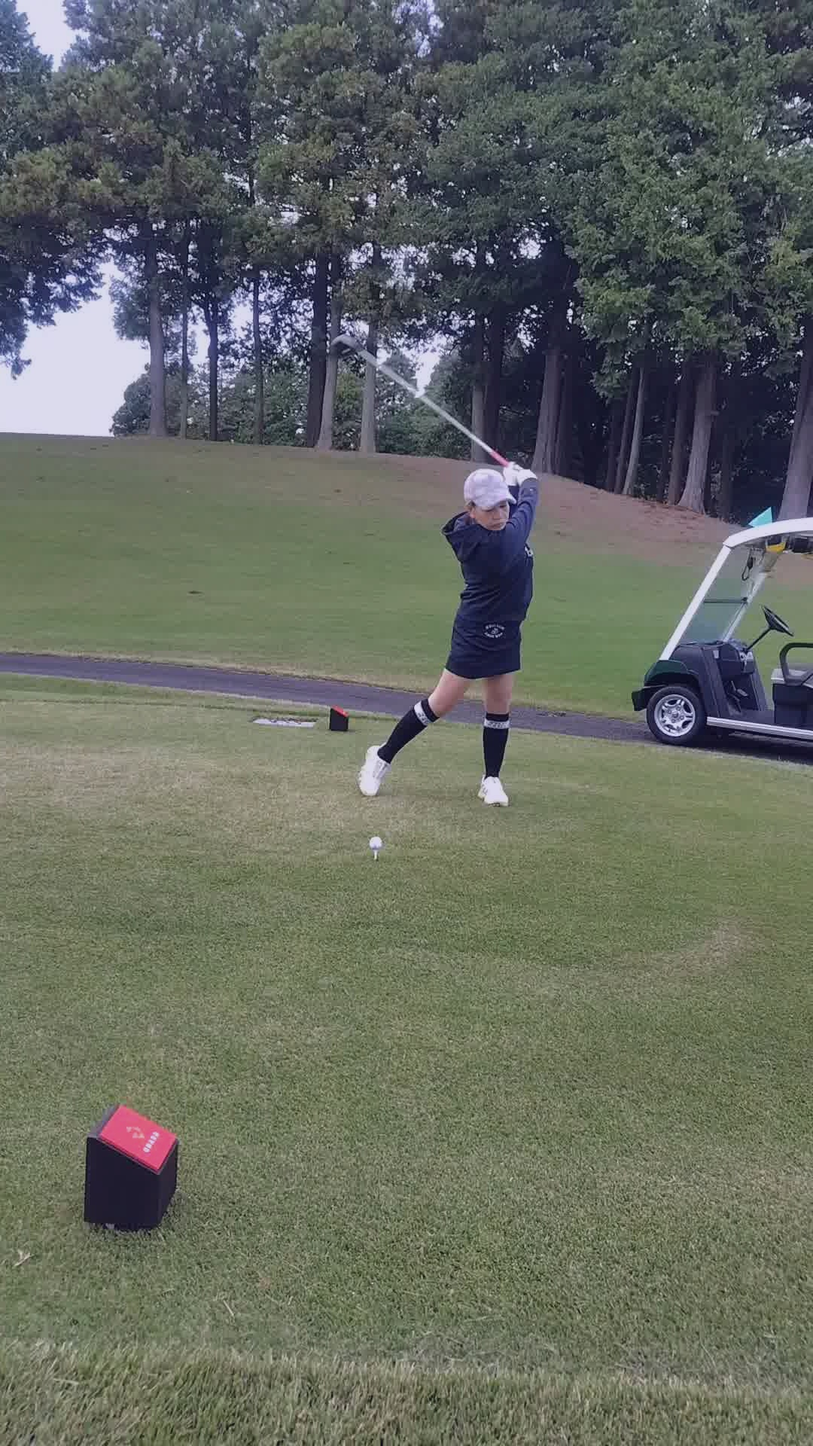clubhead: (246, 224, 456, 479)
